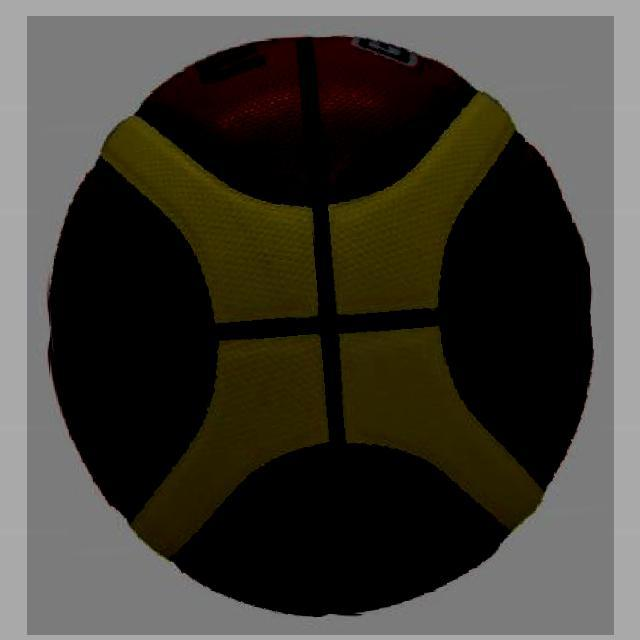Ball: (27, 16, 614, 635)
